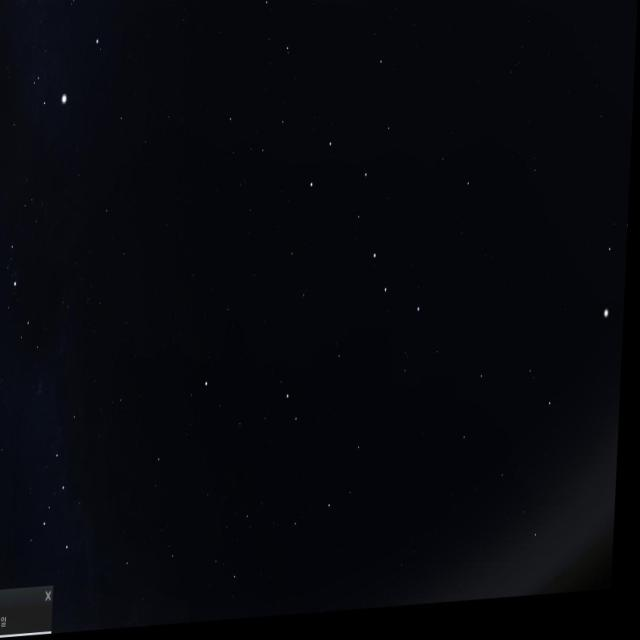cassiopeia: (28, 373, 111, 579)
ursa_major: (306, 135, 436, 343)
